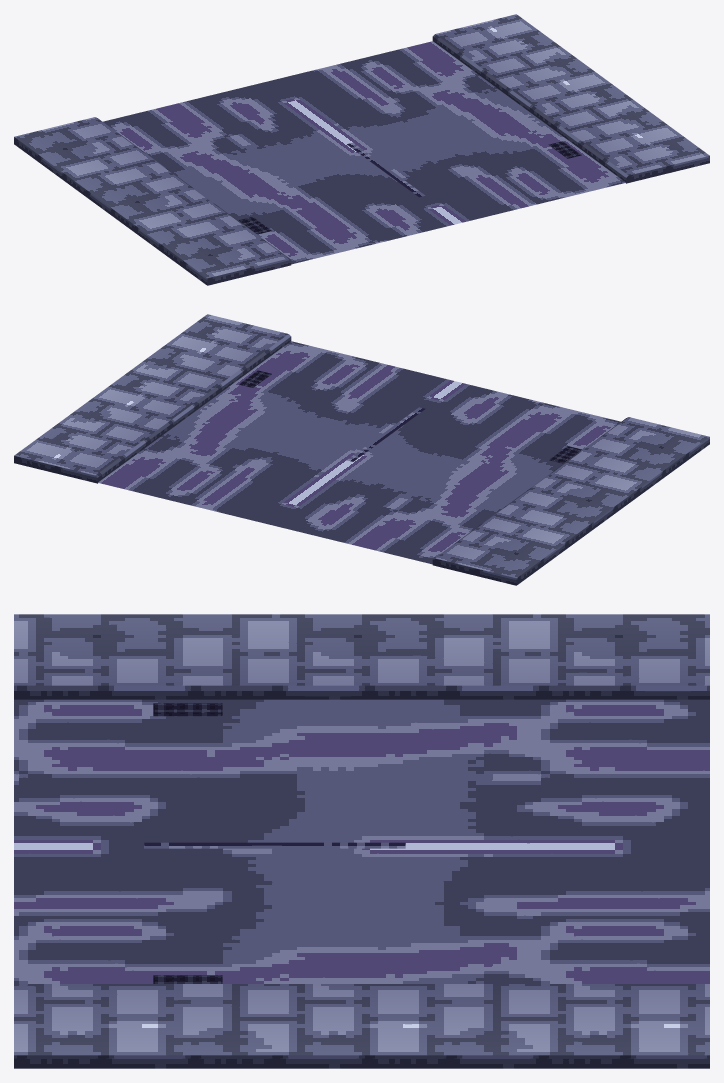
The model's file is cystreet.road.glb.
3 renders of one model, top to bottom at view 1: azimuth 30°, elevation 25°; view 2: azimuth 150°, elevation 25°; view 3: azimuth 270°, elevation 25°, orthographic. The views are drawn at different scales.
Visible parts, largest first — view 1: kit_shell_road, kit_walks, kit_card_paint; view 2: kit_shell_road, kit_walks, kit_card_paint; view 3: kit_shell_road, kit_walks, kit_card_paint.
Boxes of the visible parts, x1,y1,x2,y2 form: kit_shell_road: (103,41,625,264); kit_walks: (14,14,709,285); kit_card_paint: (239,141,581,234); kit_shell_road: (98,341,620,564); kit_walks: (14,314,709,585); kit_card_paint: (238,370,581,463); kit_shell_road: (14,699,709,983); kit_walks: (14,614,709,1068); kit_card_paint: (144,703,405,983).
Bounding box in the file's own units: 12 × 0.17 × 8.
5 materials, 5 textured.
